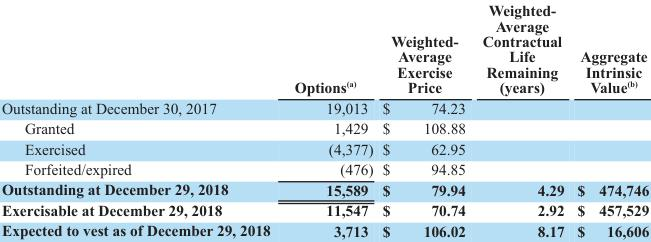table: (0, 1, 648, 238)
table column: (0, 1, 281, 238), (473, 1, 570, 238), (281, 1, 377, 238), (377, 1, 473, 238), (570, 1, 648, 238)
table column header: (0, 1, 648, 97)
table row: (0, 1, 648, 97), (0, 117, 648, 138), (0, 158, 648, 179), (0, 199, 648, 220), (0, 97, 648, 117), (0, 138, 648, 158), (0, 179, 648, 199), (0, 220, 648, 238)
